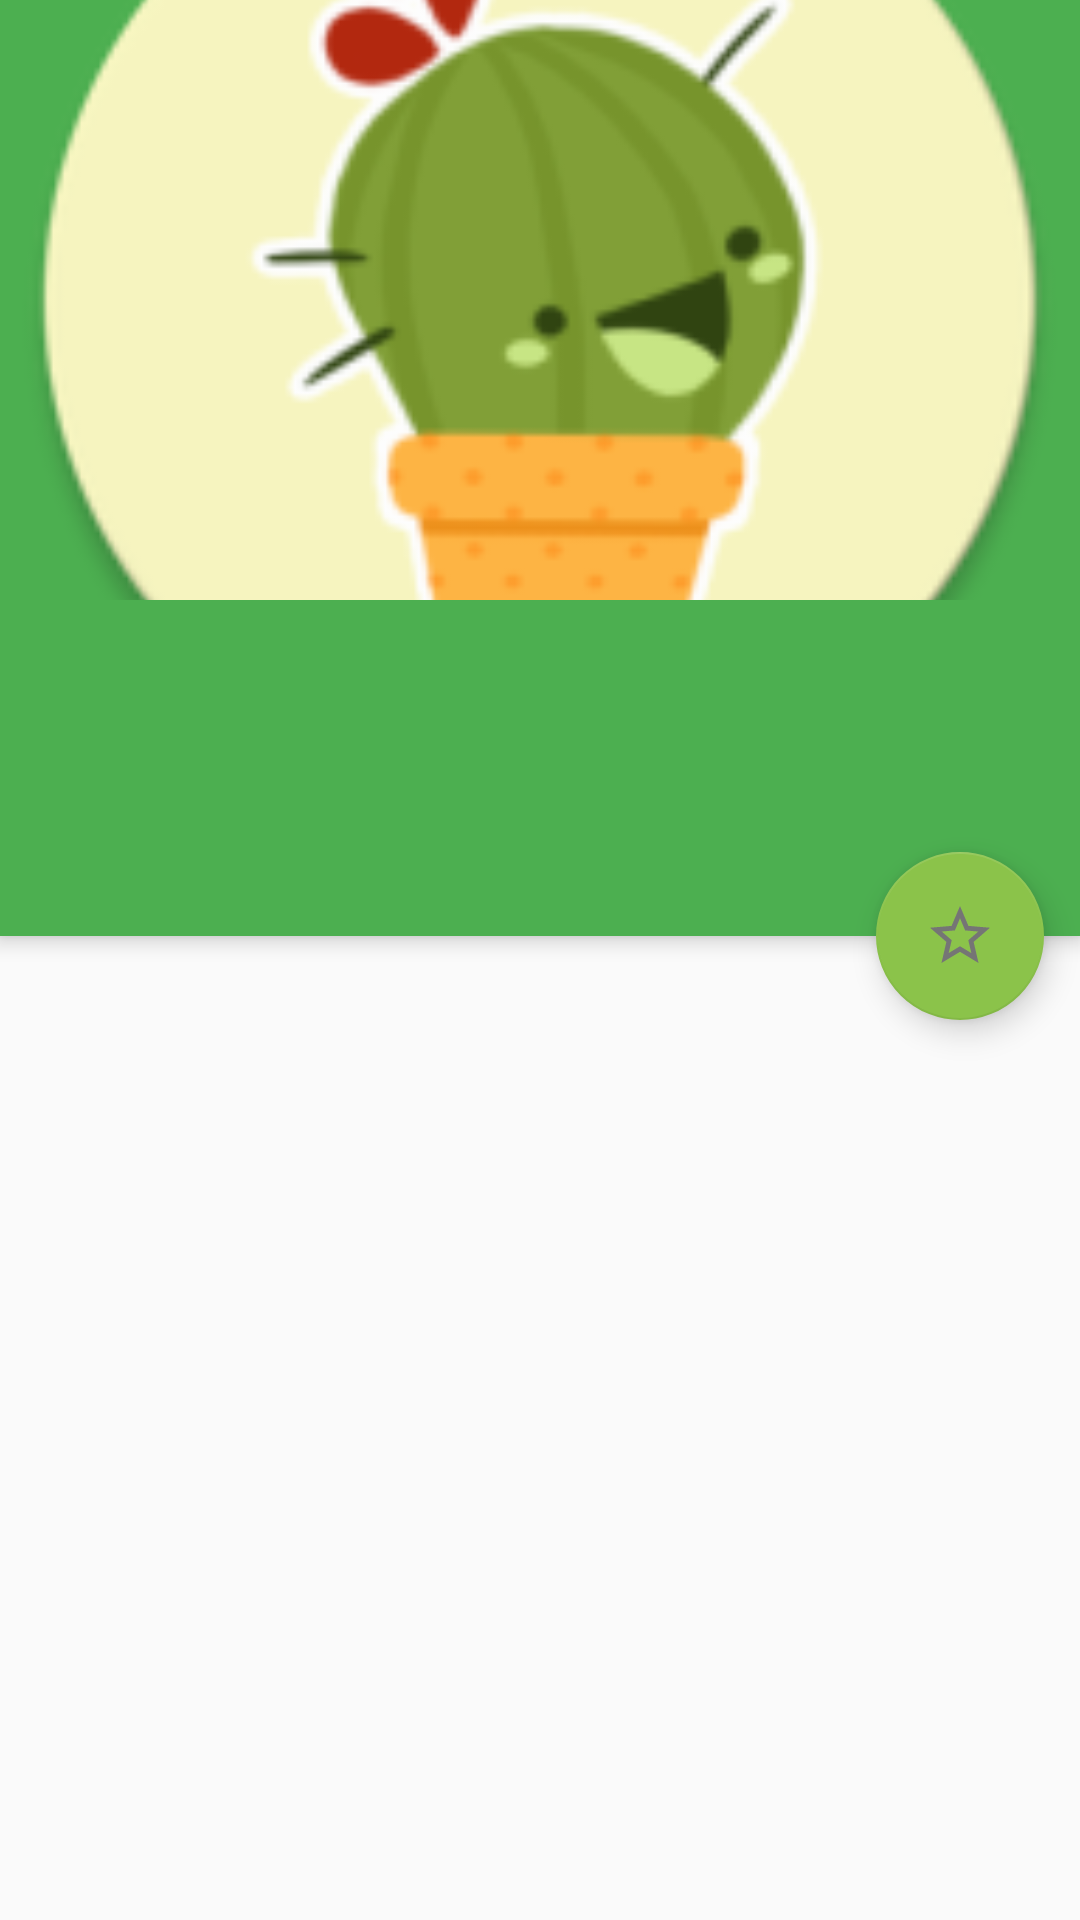

Where to tap for icons on this 1080px×1920px app screen, as (x,y):
star border: (960,936)
